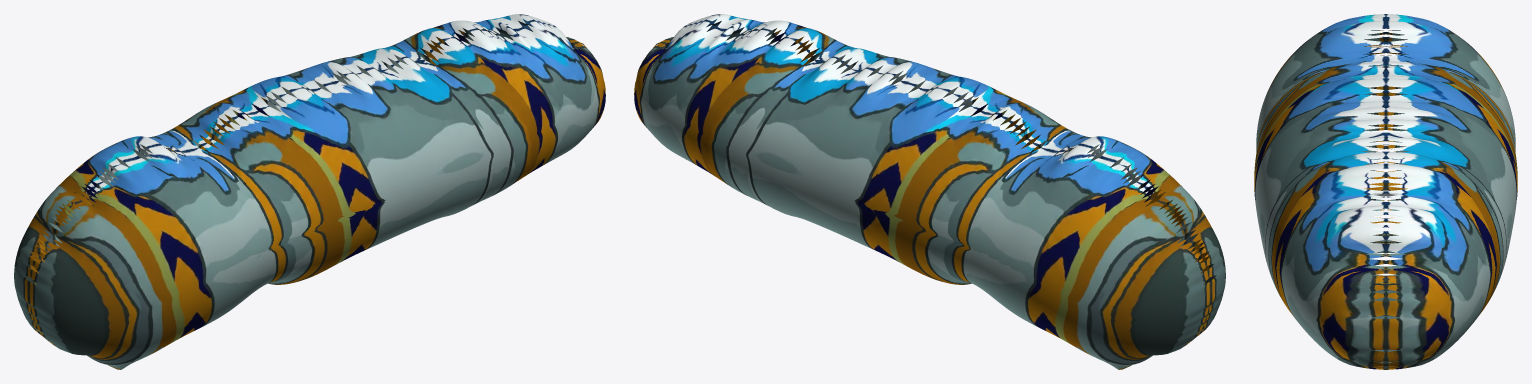
The model's file is front_conduit.glb.
3 renders of one model, left to right at view 1: azimuth 30°, elevation 25°; view 2: azimuth 150°, elevation 25°; view 3: azimuth 270°, elevation 25°, orthographic. The views are drawn at different scales.
Visible parts, largest first — view 1: front_conduit; view 2: front_conduit; view 3: front_conduit.
Boxes of the visible parts, x1,y1,x2,y2 form: front_conduit: (14,14,605,369); front_conduit: (634,14,1225,369); front_conduit: (1254,14,1517,369).
Size of the model in its own units: 0.989 by 0.3943 by 0.3332.
Materials: 1 (1 with a texture image).
